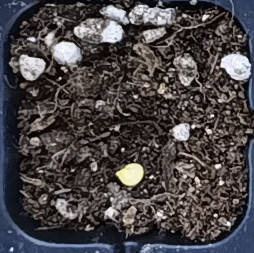pepper seed: (41, 68, 186, 253)
